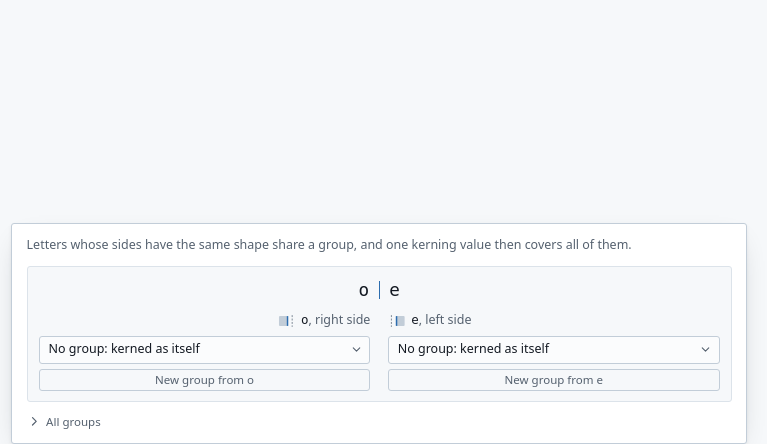
Test: naming a group › refuses a second group of the same name on the same side
The image size is (767, 444).
(page scrolled)
Click the button "All groups".
click(64, 421)  # box [27, 413, 101, 430]
(page scrolled)
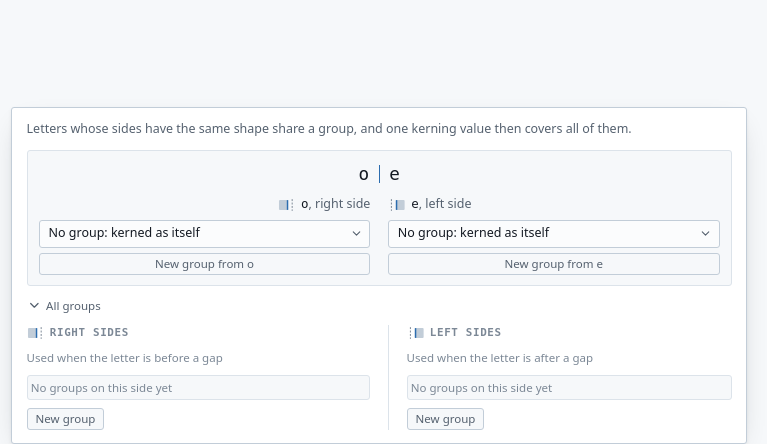
Click the button "New group" below "Used when the letter is before a gap".
click(66, 419)  # box [27, 408, 104, 430]
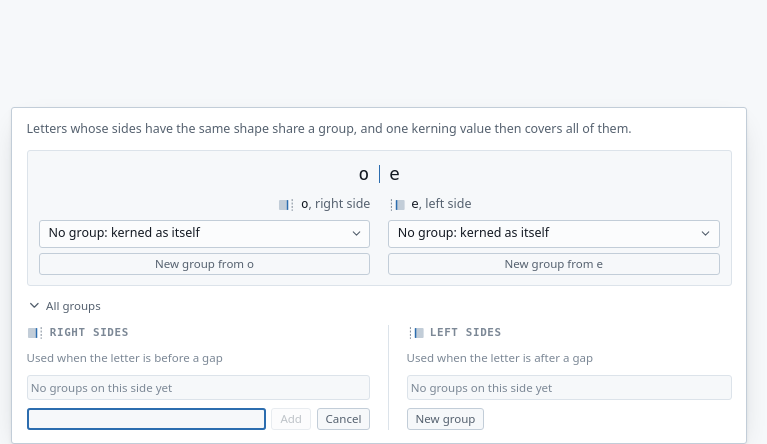
Type "O_round" into the field named "Name for the new group".
click(146, 419); type("O_round")  # box [27, 408, 266, 430]
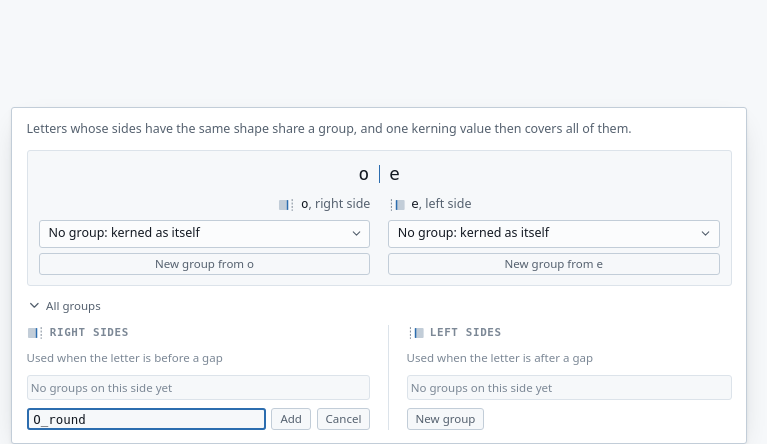
Click the button "Add".
click(291, 419)  # box [271, 408, 311, 430]
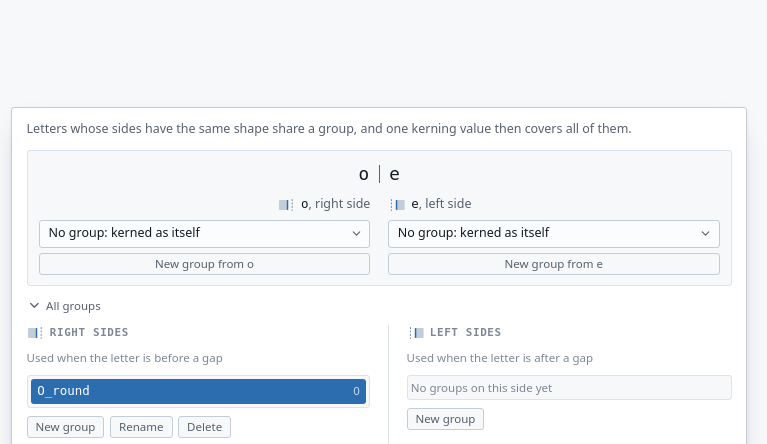
Click the button "New group" below "Used when the letter is before a gap".
click(66, 427)  # box [27, 416, 104, 438]
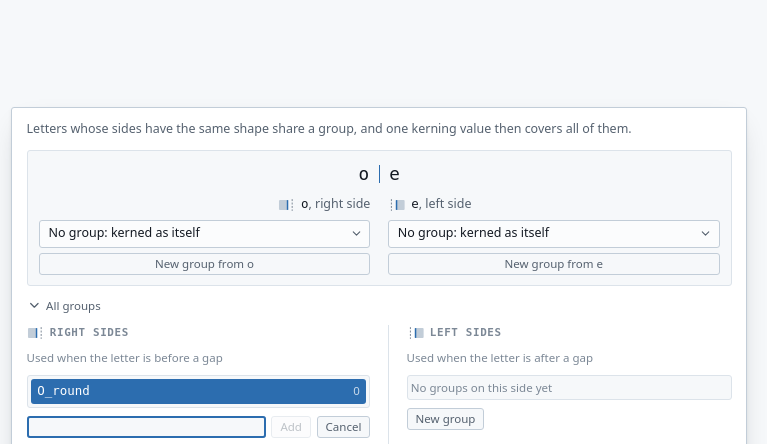
Type "O_round" into the field named "Name for the new group".
click(146, 427); type("O_round")  # box [27, 416, 266, 438]
(page scrolled)
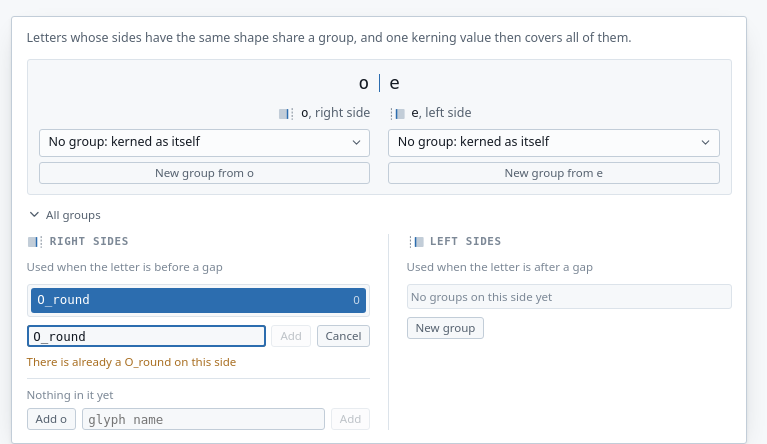
expect the message reads "There is already a O_round on this side": met, box [27, 354, 236, 369]
